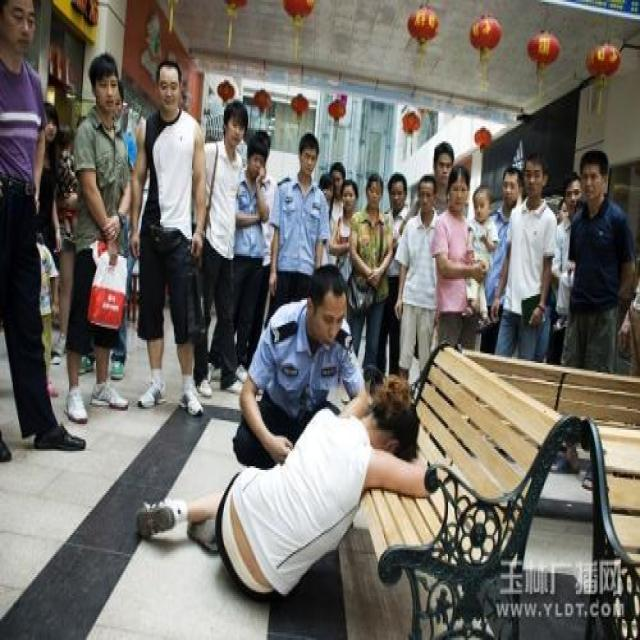10-: (0, 0, 638, 462)
down: (132, 378, 443, 596)
